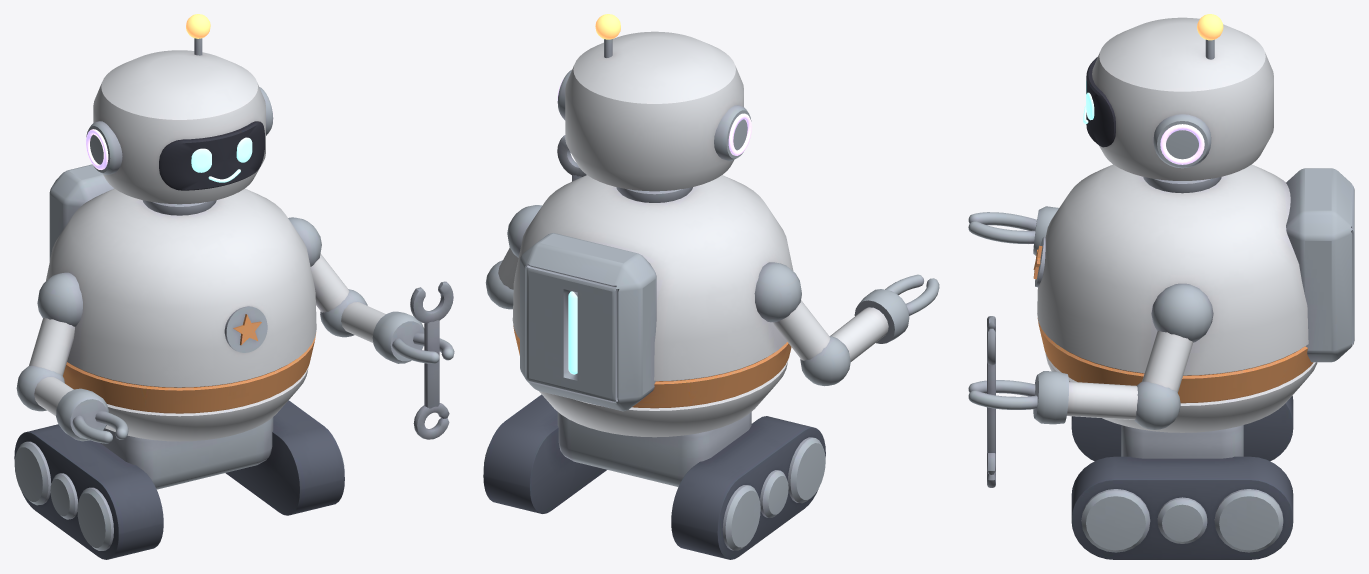
The model's file is nova-robot.glb.
3 views of the same model, side by side, from view 1: azimuth 30°, elevation 25°; view 2: azimuth 150°, elevation 25°; view 3: azimuth 270°, elevation 25° (orthographic). The views are drawn at different scales.
Parts seen in each view (by area): view 1: repair-bot_body, repair-bot_lights_glow; view 2: repair-bot_body, repair-bot_lights_glow; view 3: repair-bot_body, repair-bot_lights_glow.
Boxes of the visible parts, x1,y1,x2,y2 form: repair-bot_body: (14, 38, 454, 559); repair-bot_lights_glow: (86, 14, 273, 182); repair-bot_body: (483, 31, 939, 559); repair-bot_lights_glow: (557, 14, 751, 374); repair-bot_body: (968, 17, 1354, 559); repair-bot_lights_glow: (1083, 14, 1223, 164).
Size of the model in its own units: 0.8076 by 1 by 0.6957.
4 materials, 1 textured.
